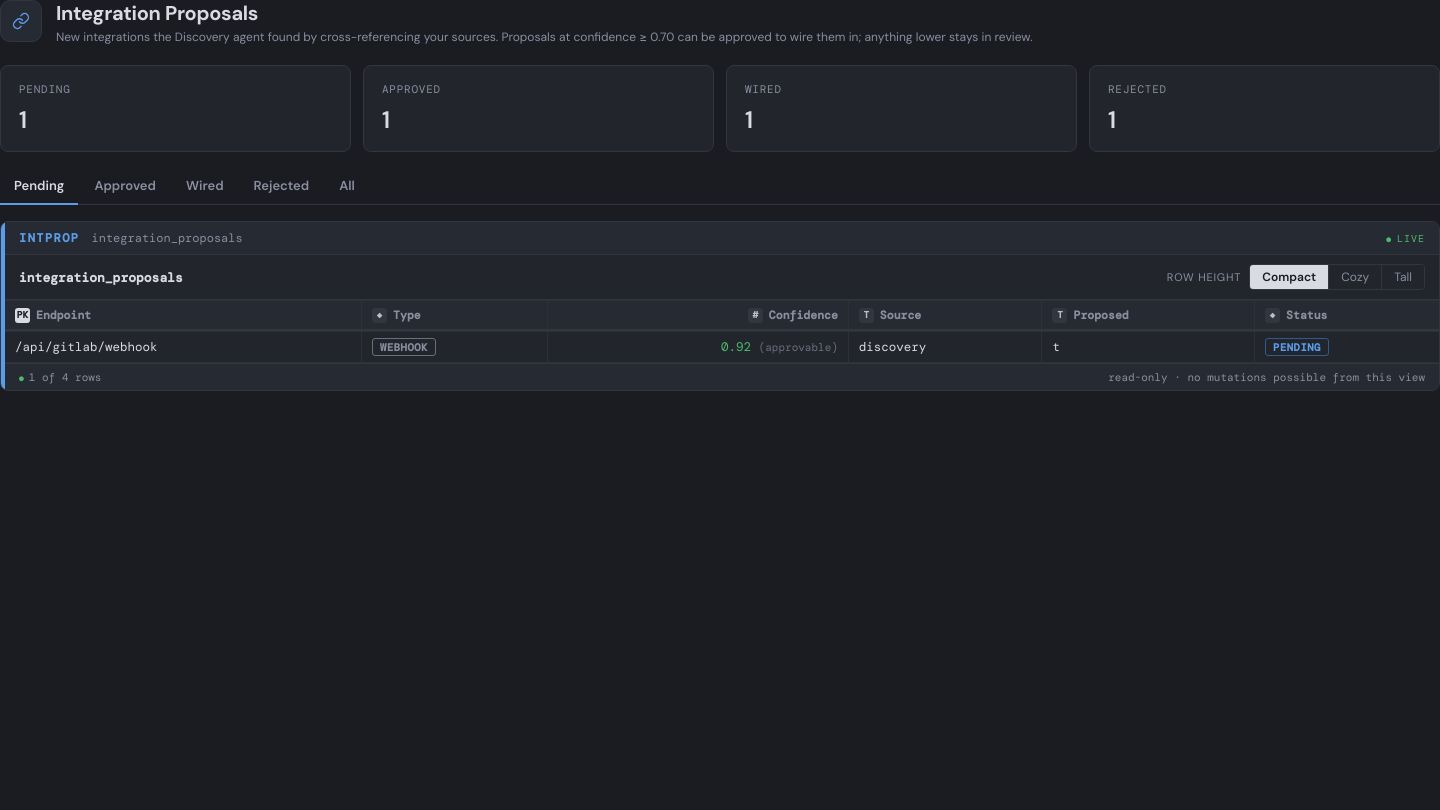
Test: Intprops page — Phase 3 design-system rebuild (TRK-198/TRK-215 lineage) › approves and wires a pending proposal, optimistically updates status, and POSTs the approve endpoint
The image size is (1440, 810).
Check: the text "/api/gitlab/webhook" is shown, box [5,332,362,362]
Click the text "/api/gitlab/webhook": (722, 347) [5,332,1439,362]
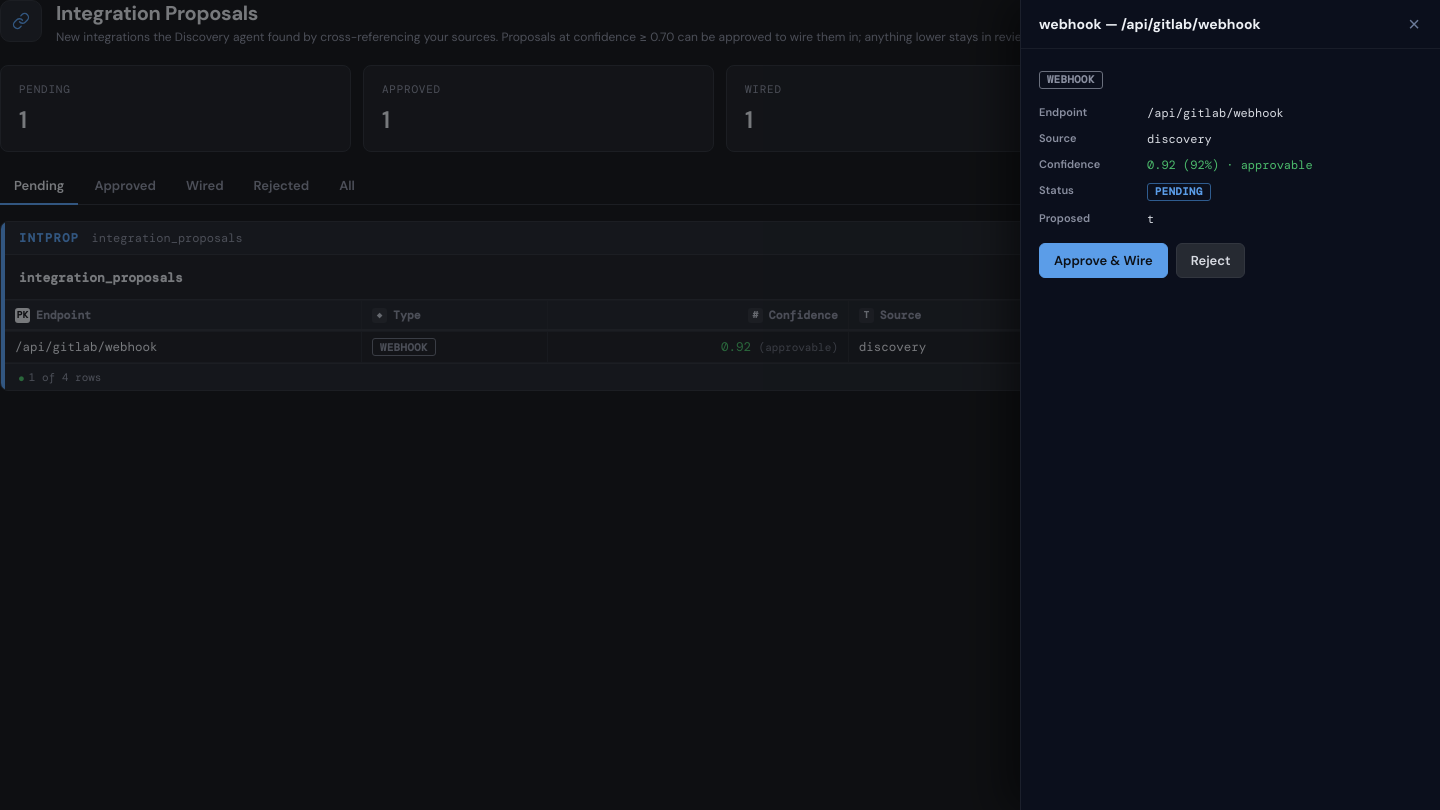
Click the button "Approve & Wire": (1103, 260) [1039,242,1168,278]
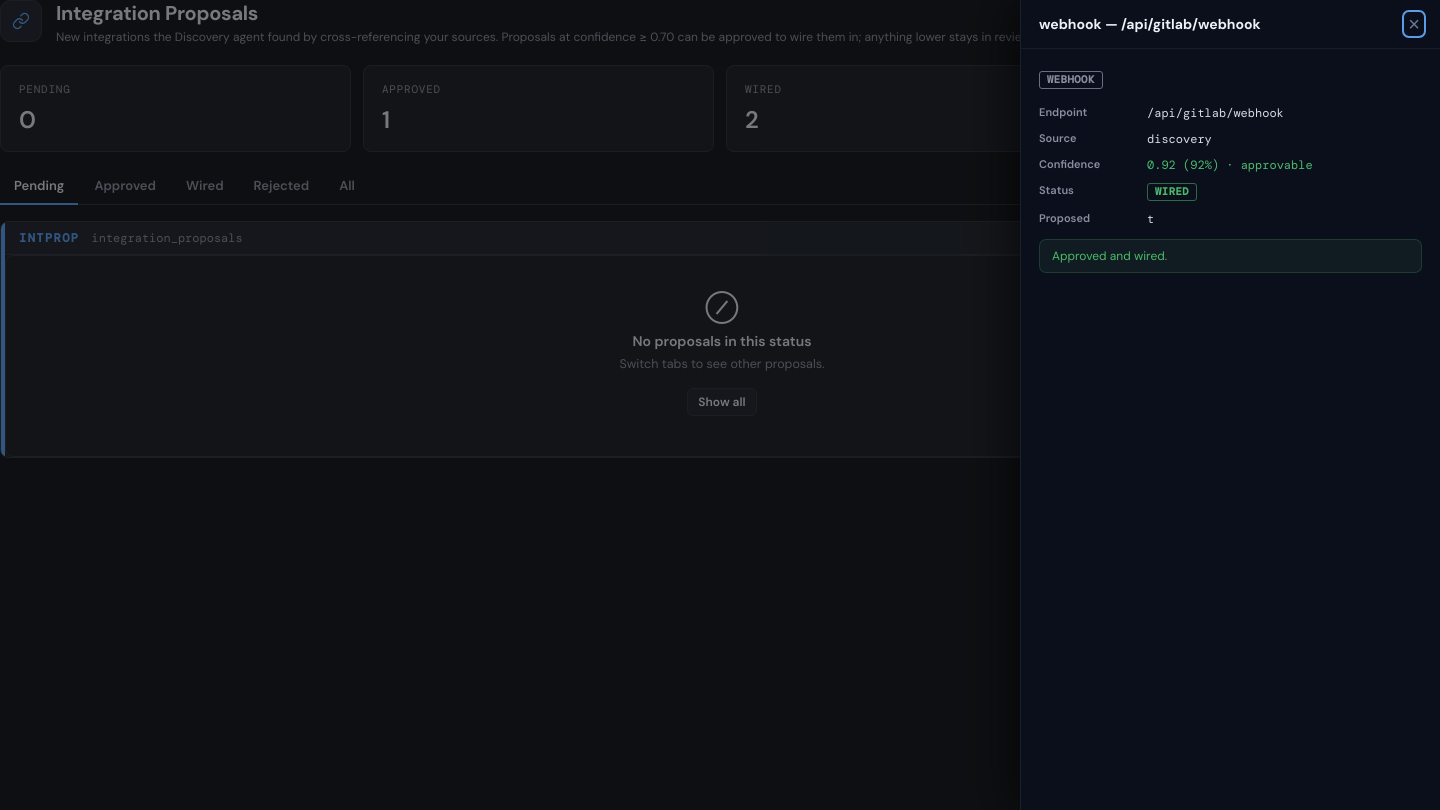
Check: the text "Approved and wired." is shown, box [1039,238,1422,272]
